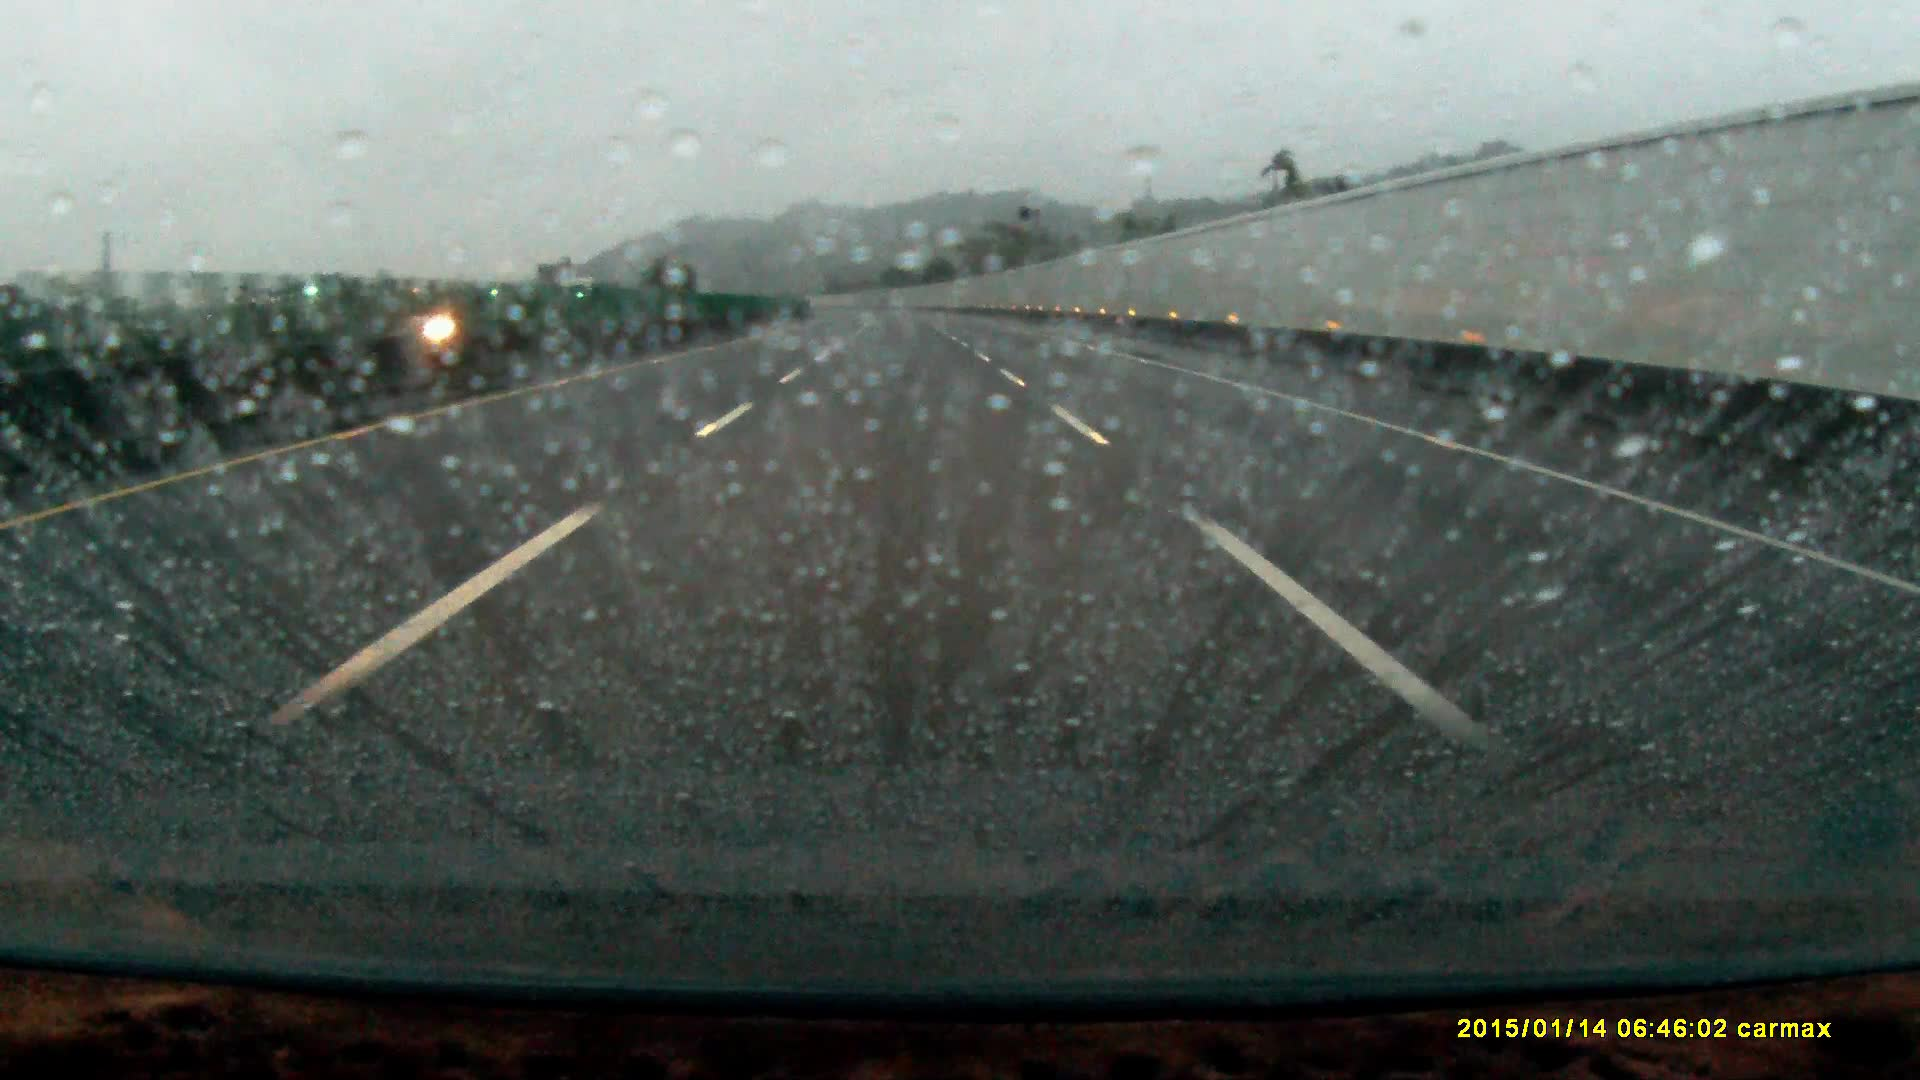vehicle: (396, 301, 481, 342)
